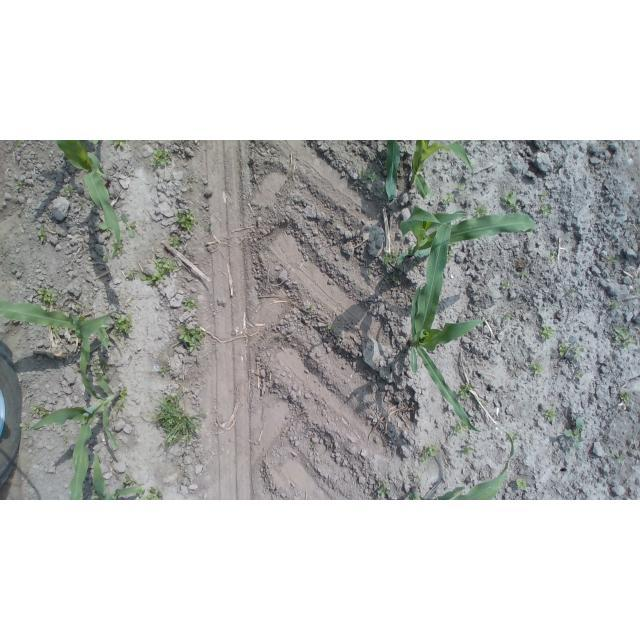Maize: (404, 214, 489, 439), (27, 367, 135, 500), (6, 297, 137, 392), (390, 199, 538, 267), (52, 141, 136, 246), (397, 440, 518, 501), (384, 140, 480, 200), (90, 448, 143, 501)
Weeds: (147, 392, 210, 448), (139, 256, 182, 285), (168, 209, 196, 250), (177, 323, 207, 353), (564, 415, 585, 453), (610, 324, 638, 349), (501, 187, 525, 215), (110, 311, 135, 337), (120, 212, 140, 240), (36, 284, 61, 306), (558, 341, 583, 363), (113, 385, 131, 413), (151, 148, 175, 169), (452, 416, 477, 436), (91, 360, 112, 383), (135, 486, 169, 500), (540, 190, 556, 218), (179, 295, 202, 314), (420, 444, 439, 464), (380, 249, 404, 264), (537, 323, 555, 343), (106, 241, 124, 260), (96, 217, 114, 235), (30, 403, 49, 420), (358, 168, 378, 184), (373, 482, 393, 498), (532, 358, 547, 379), (472, 202, 490, 219), (36, 225, 50, 245), (498, 278, 515, 294), (460, 441, 477, 457), (120, 473, 138, 488), (122, 266, 137, 283), (389, 270, 404, 287), (515, 475, 529, 493), (460, 384, 473, 403), (439, 192, 455, 207), (542, 250, 559, 263), (156, 363, 171, 377), (63, 184, 76, 200), (620, 389, 632, 406), (609, 300, 623, 313), (605, 252, 619, 265), (111, 140, 129, 150), (455, 179, 469, 191), (546, 409, 558, 423), (614, 454, 628, 465), (305, 303, 318, 314), (365, 266, 375, 279), (13, 140, 27, 148), (566, 288, 577, 298), (518, 270, 530, 279), (309, 442, 317, 453), (503, 313, 512, 322), (14, 181, 22, 190), (326, 325, 335, 333), (334, 337, 342, 345), (413, 473, 421, 481)
